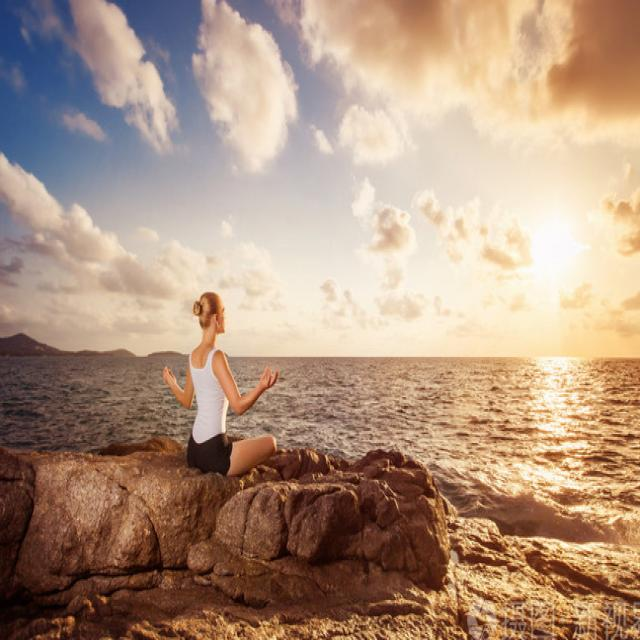reef: (325, 466, 512, 596)
